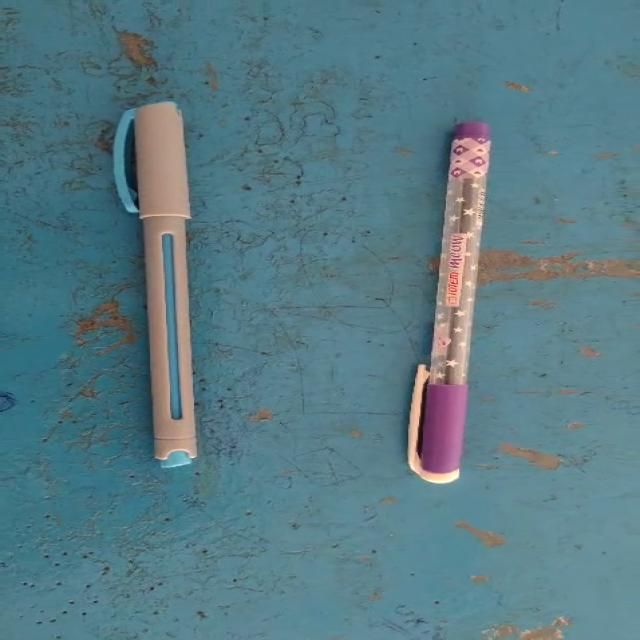pen: (0, 0, 274, 523), (390, 93, 542, 517)
